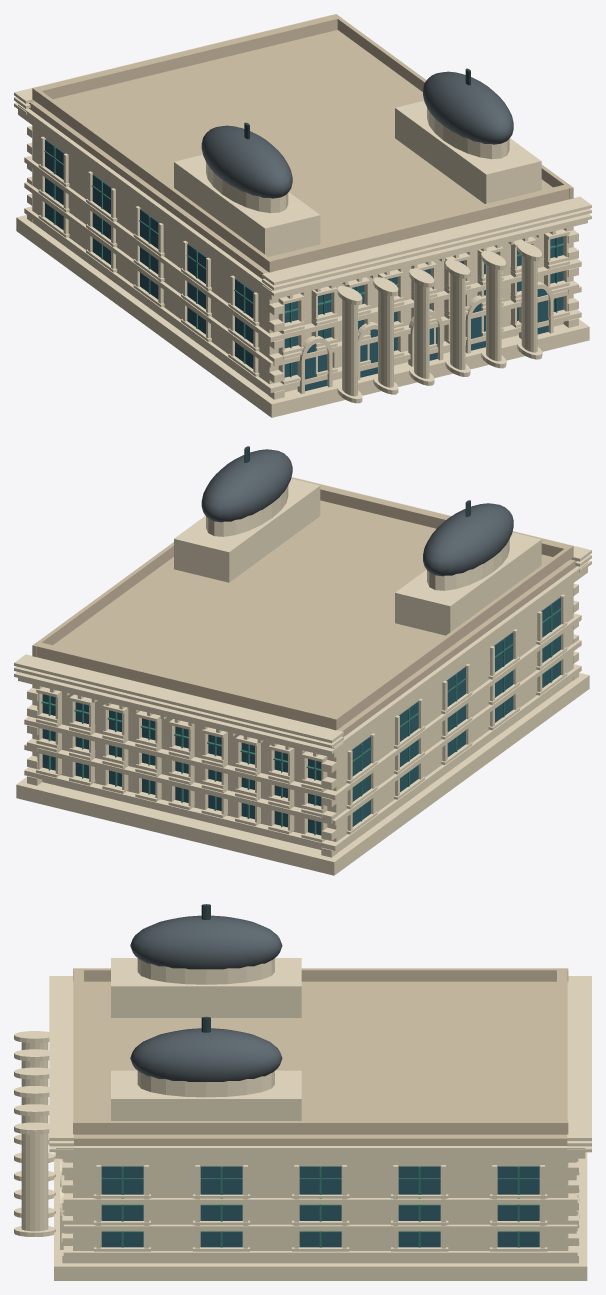
The model's file is shanghai-club.glb.
3 renders of one model, top to bottom at view 1: azimuth 30°, elevation 25°; view 2: azimuth 150°, elevation 25°; view 3: azimuth 270°, elevation 25°, orthographic. The views are drawn at different scales.
Visible parts, largest first — view 1: shanghai-club; view 2: shanghai-club; view 3: shanghai-club.
Boxes of the visible parts, x1,y1,x2,y2 form: shanghai-club: [14, 14, 591, 417]; shanghai-club: [14, 446, 591, 875]; shanghai-club: [14, 904, 591, 1280].
Bounding box in the file's own units: 34.64 × 23.8 × 52.25.
